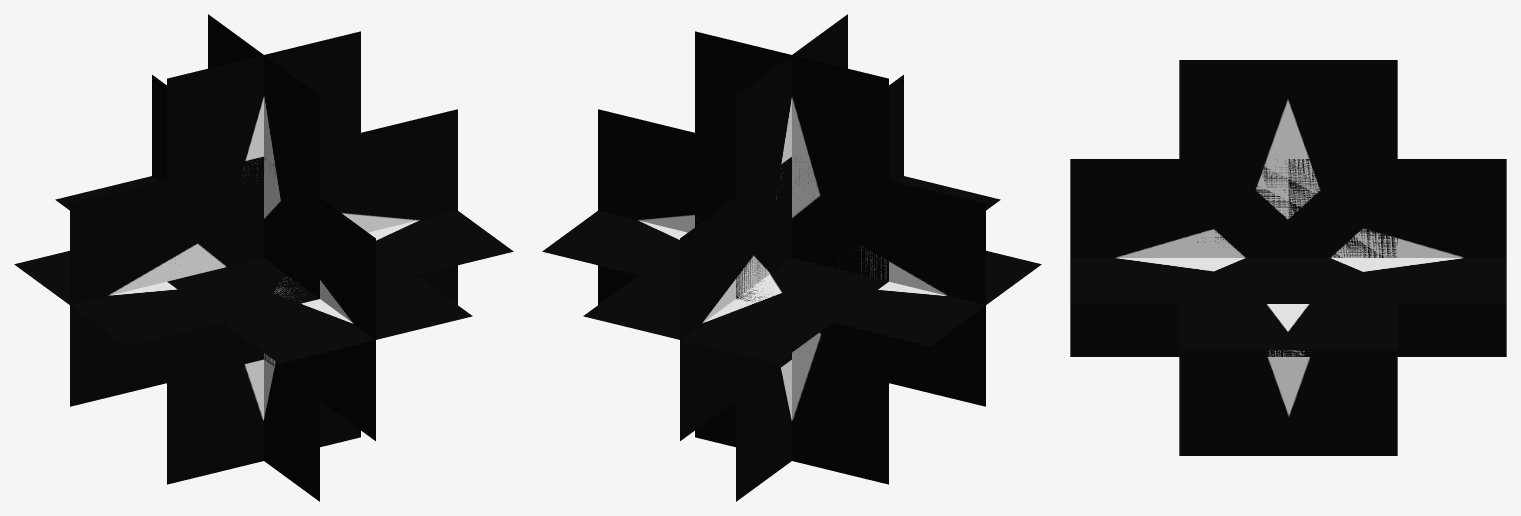
File: FxPlane_Flow_2.fbx
3 views of the same model, side by side, from view 1: azimuth 30°, elevation 25°; view 2: azimuth 150°, elevation 25°; view 3: azimuth 270°, elevation 25° (orthographic). The views are drawn at different scales.
Visible parts, largest first — view 1: FxPlane_Flow_2; view 2: FxPlane_Flow_2; view 3: FxPlane_Flow_2.
Part boxes in pixels (x1,y1,x2,y2): FxPlane_Flow_2: [14, 14, 513, 501]; FxPlane_Flow_2: [542, 14, 1041, 501]; FxPlane_Flow_2: [1070, 60, 1506, 455].
Bounding box in the file's own units: 300 × 300 × 300.
1 material, 1 textured.
